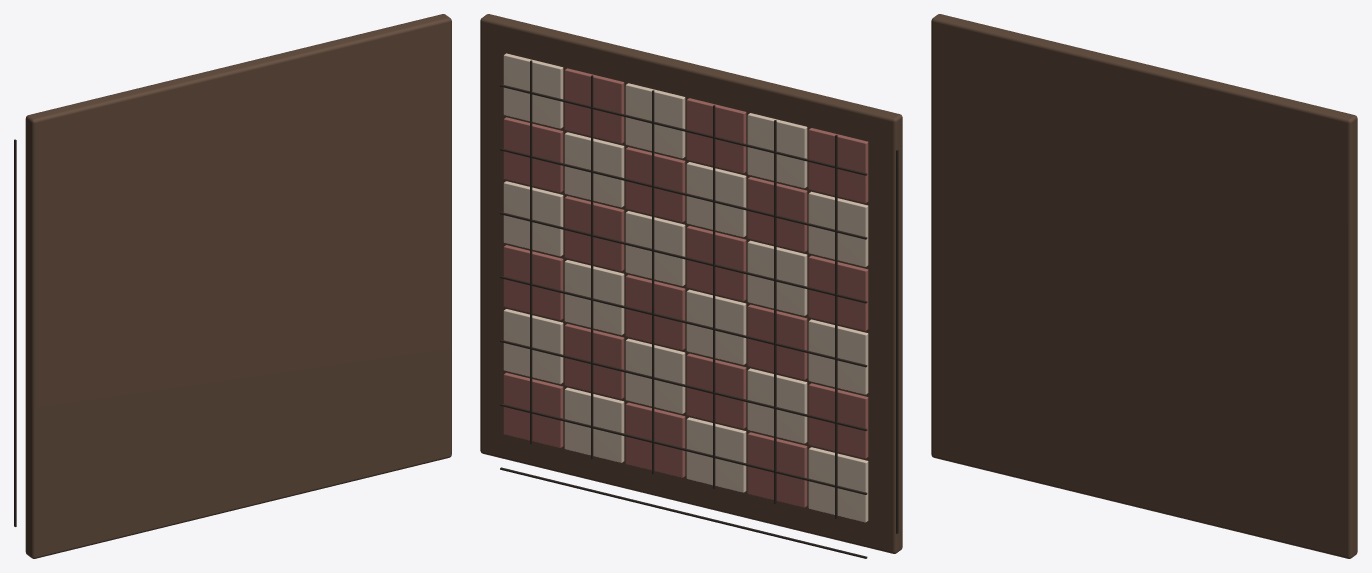
Rendered from board-6x6.glb.
3 views of the same model, side by side, from view 1: azimuth 30°, elevation 25°; view 2: azimuth 150°, elevation 25°; view 3: azimuth 330°, elevation 25° (orthographic).
Visible parts, largest first — view 1: board_frame, board_grid_x; view 2: board_frame, board_square.030, board_square, board_square.032, board_square.034, board_square.002, board_square.035, board_square.018, board_square.006, board_square.023, board_square.029, board_square.004 (+39 smaller); view 3: board_frame.
Part boxes in pixels (x1,y1,x2,y2): board_frame: (25, 14, 451, 558); board_grid_x: (14, 139, 16, 526); board_frame: (480, 14, 902, 553); board_square.030: (808, 128, 868, 203); board_square: (808, 447, 868, 522); board_square.032: (686, 98, 746, 173); board_square.034: (564, 68, 624, 143); board_square.002: (686, 417, 746, 492); board_square.035: (503, 53, 563, 128); board_square.018: (808, 255, 868, 330); board_square.006: (808, 383, 868, 458); board_square.023: (503, 181, 563, 256); board_square.029: (503, 117, 563, 192); board_square.004: (564, 387, 624, 462); board_frame: (931, 14, 1357, 558).
Size of the model in its own units: 7.2 by 7.2 by 0.3675.
